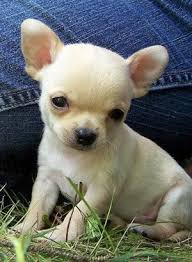chihuahua: (9, 8, 192, 244)
